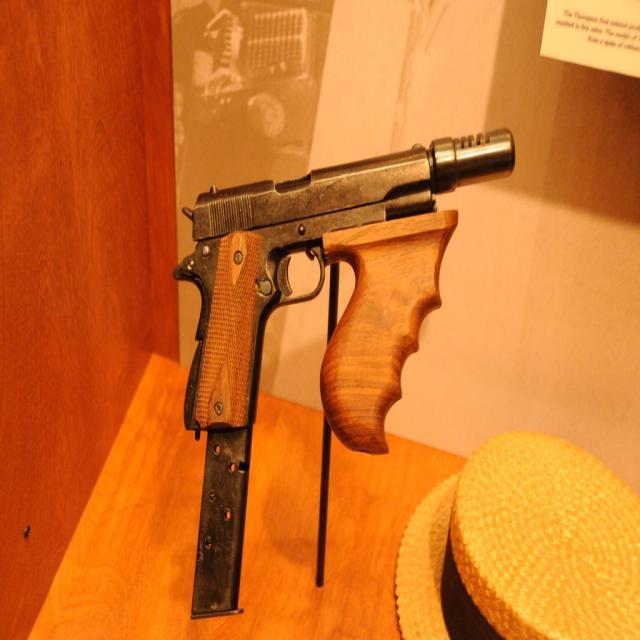Gun: (175, 130, 514, 617)
